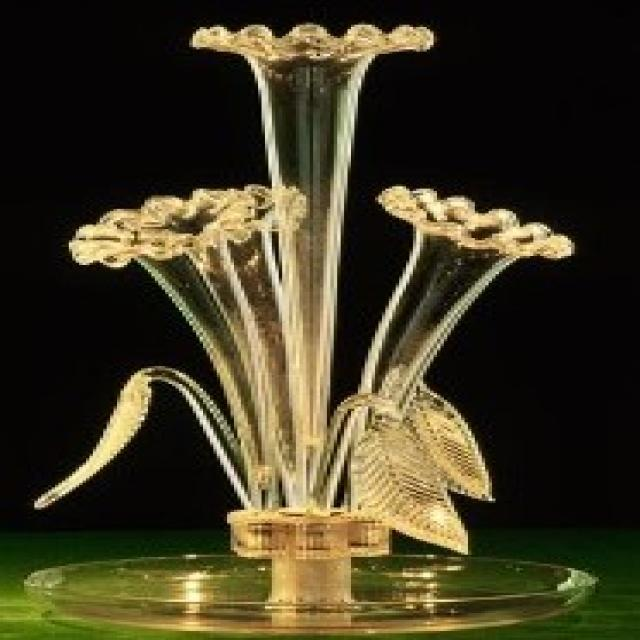electronic: (29, 22, 602, 632)
